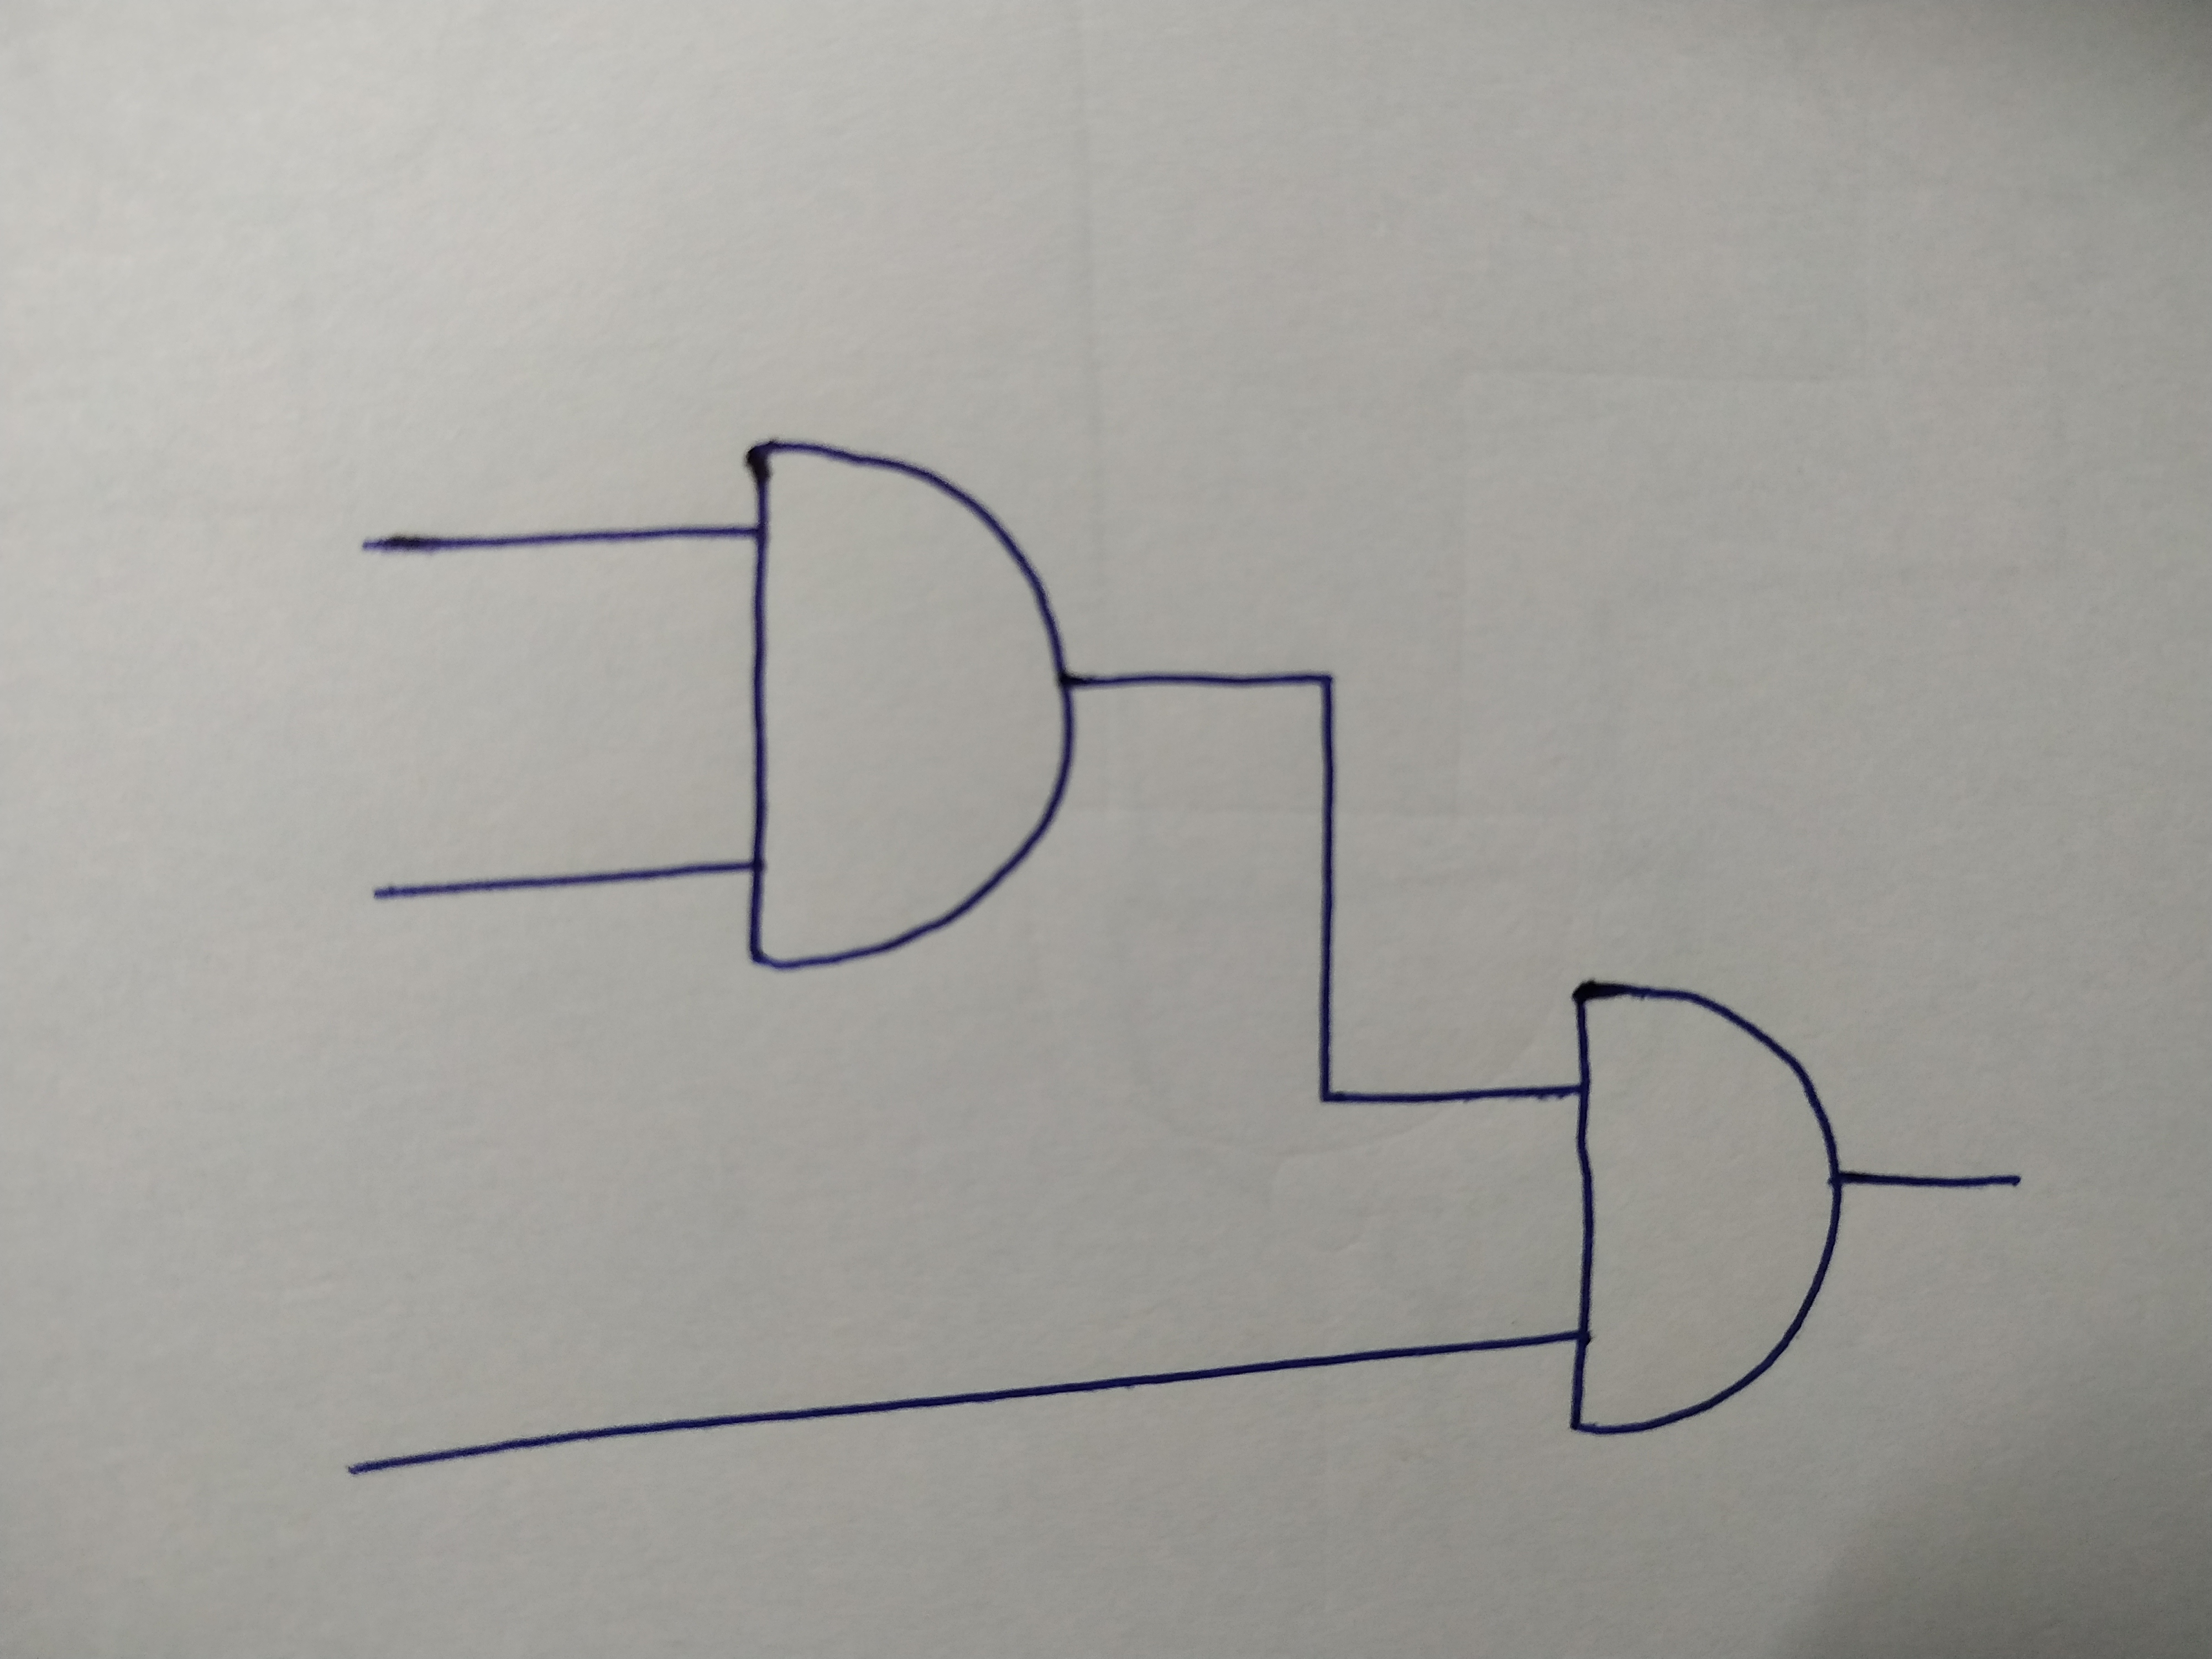and: (742, 432, 1075, 969), (1566, 983, 1843, 1434)
